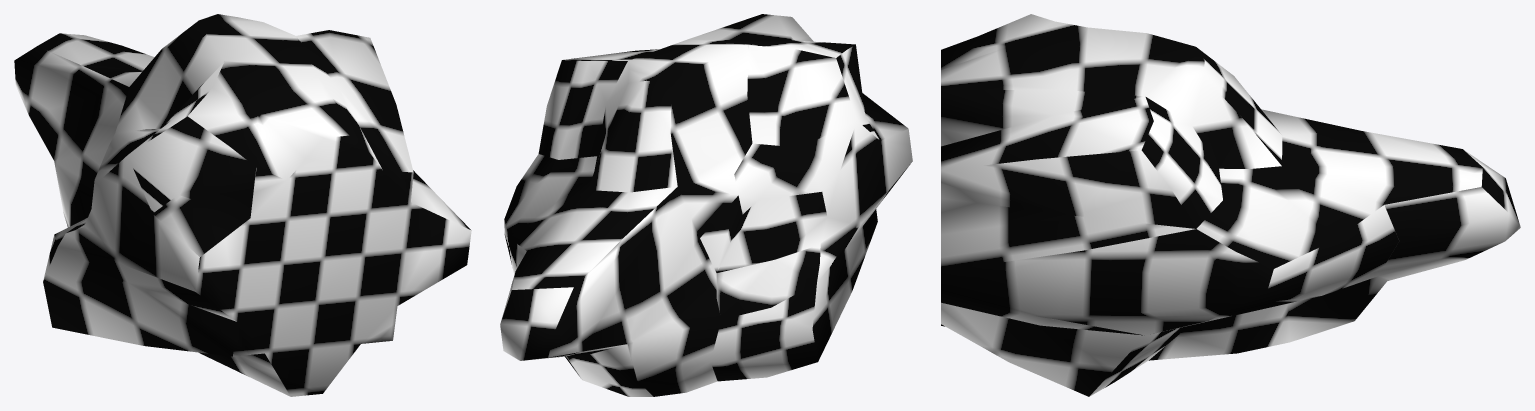
Rendered from initlitr32.dae.
The picture shows the model from 3 angles, left to right: view 1: azimuth 30°, elevation 25°; view 2: azimuth 150°, elevation 25°; view 3: azimuth 270°, elevation 25°; orthographic projection. The views are drawn at different scales.
Visible parts, largest first — view 1: item; view 2: item; view 3: item.
Boxes of the visible parts, box(x1,y1,x2,y2) form: item: box(14, 14, 471, 396); item: box(500, 14, 912, 396); item: box(941, 14, 1520, 396).
Bounding box in the file's own units: 0.9358 × 1.57 × 0.9119.
1 material, 1 textured.
